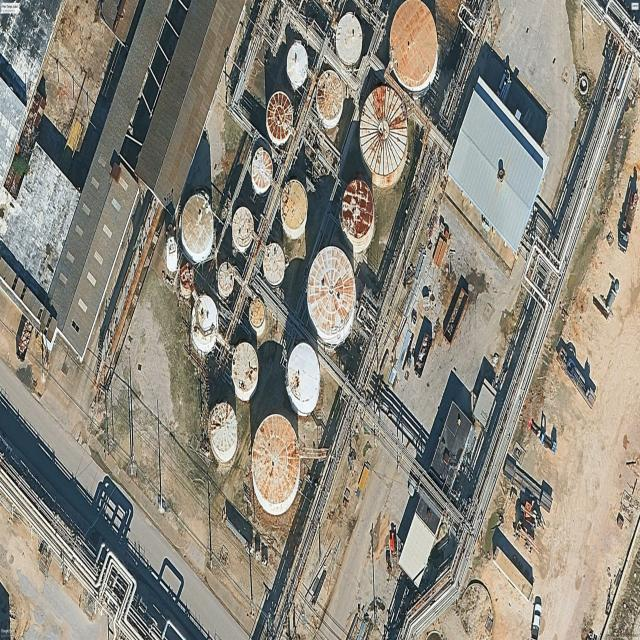Oil Rafinery: (359, 85, 408, 188), (307, 246, 356, 347), (251, 414, 300, 515), (389, 0, 438, 94), (286, 342, 321, 417), (180, 190, 215, 264), (340, 179, 375, 253), (208, 402, 238, 463), (316, 69, 345, 129), (280, 179, 308, 239), (191, 294, 218, 356), (232, 342, 259, 402), (336, 12, 363, 67), (266, 91, 293, 146), (286, 40, 308, 90), (232, 206, 254, 254), (251, 147, 273, 195), (263, 243, 286, 287), (249, 296, 266, 338), (217, 261, 234, 300)
